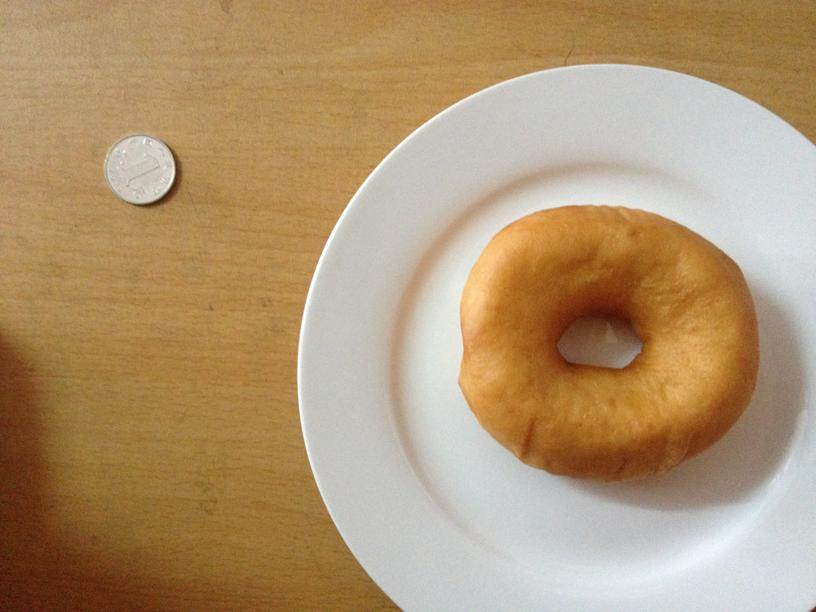coin: (101, 133, 178, 203)
doughnut: (459, 205, 759, 478)
